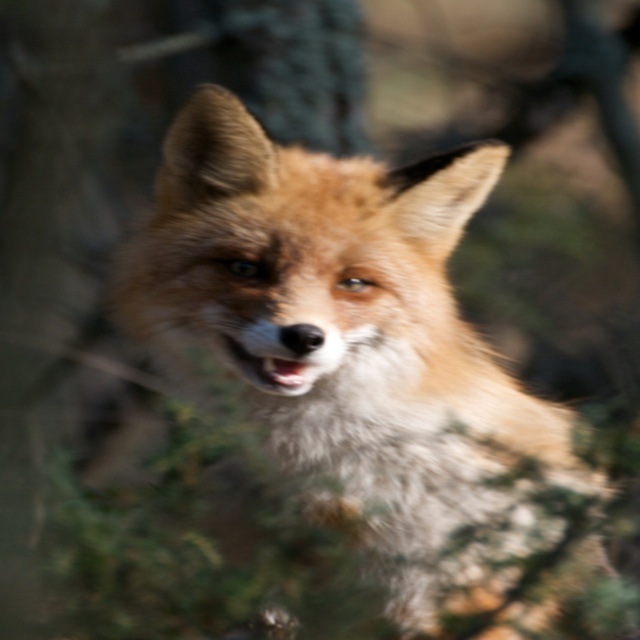Fox: (37, 76, 622, 639)
